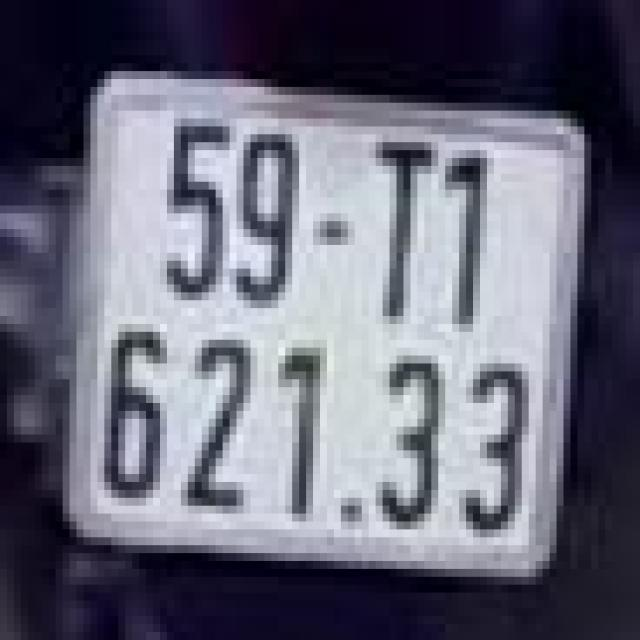1: (438, 142, 508, 340), (271, 324, 334, 529)
2: (177, 320, 261, 518)
3: (459, 348, 536, 553), (376, 348, 445, 537)
5: (150, 111, 233, 308)
6: (94, 312, 170, 510)
9: (237, 123, 299, 304)
T: (355, 118, 438, 340)
